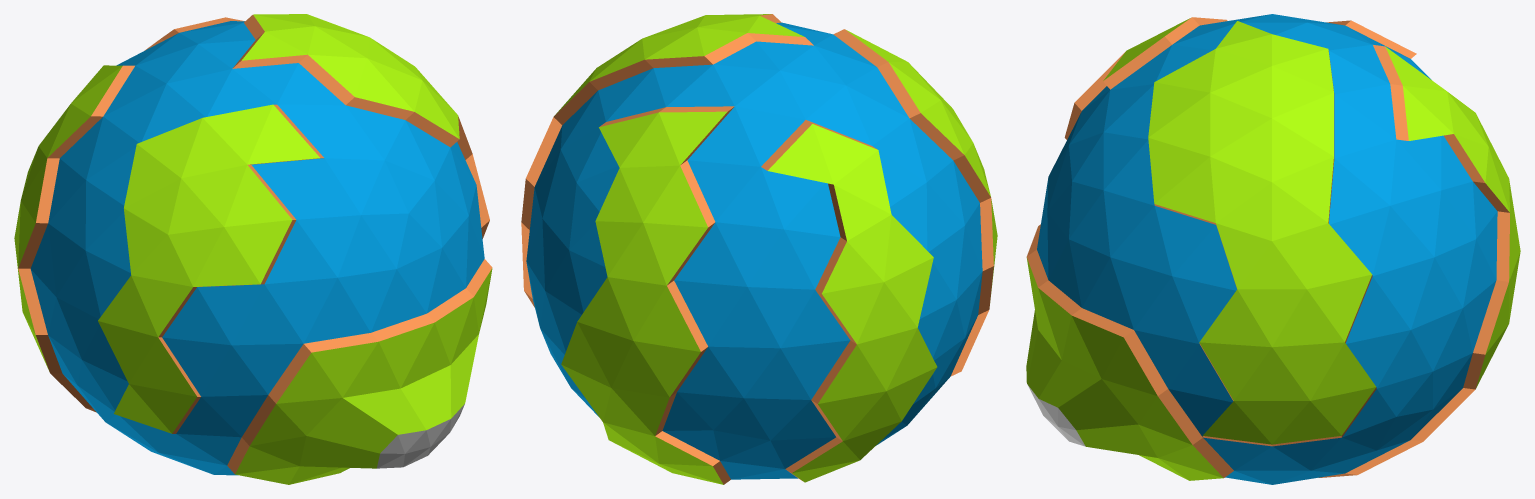
Rendered from Planet3.fbx.
3 views of the same model, side by side, from view 1: azimuth 30°, elevation 25°; view 2: azimuth 150°, elevation 25°; view 3: azimuth 270°, elevation 25° (orthographic). The views are drawn at different scales.
Visible parts, largest first — view 1: Icosphere; view 2: Icosphere; view 3: Icosphere.
Part boxes in pixels (x1,y1,x2,y2): Icosphere: (14, 14, 492, 484); Icosphere: (521, 14, 997, 484); Icosphere: (1026, 14, 1520, 484).
Bounding box in the file's own units: 380 × 377 × 389.
